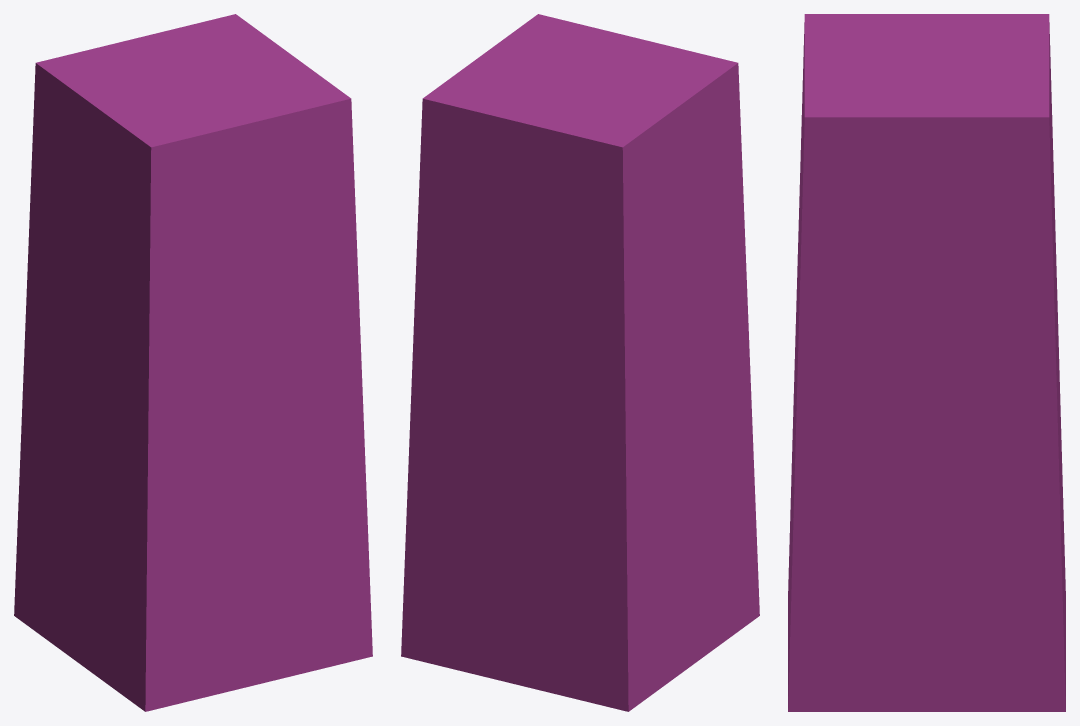
File: SM_Bld_Tower_Base_01_Collision.fbx
3 views of the same model, side by side, from view 1: azimuth 30°, elevation 25°; view 2: azimuth 150°, elevation 25°; view 3: azimuth 270°, elevation 25° (orthographic). The views are drawn at different scales.
Visible parts, largest first — view 1: SM_Bld_Tower_Base_01_Collision; view 2: SM_Bld_Tower_Base_01_Collision; view 3: SM_Bld_Tower_Base_01_Collision.
Boxes of the visible parts, x1=… form: SM_Bld_Tower_Base_01_Collision: x1=14, y1=14, x2=372, y2=711; SM_Bld_Tower_Base_01_Collision: x1=401, y1=14, x2=759, y2=711; SM_Bld_Tower_Base_01_Collision: x1=788, y1=14, x2=1065, y2=711.
Size of the model in its own units: 285 by 665 by 285.
